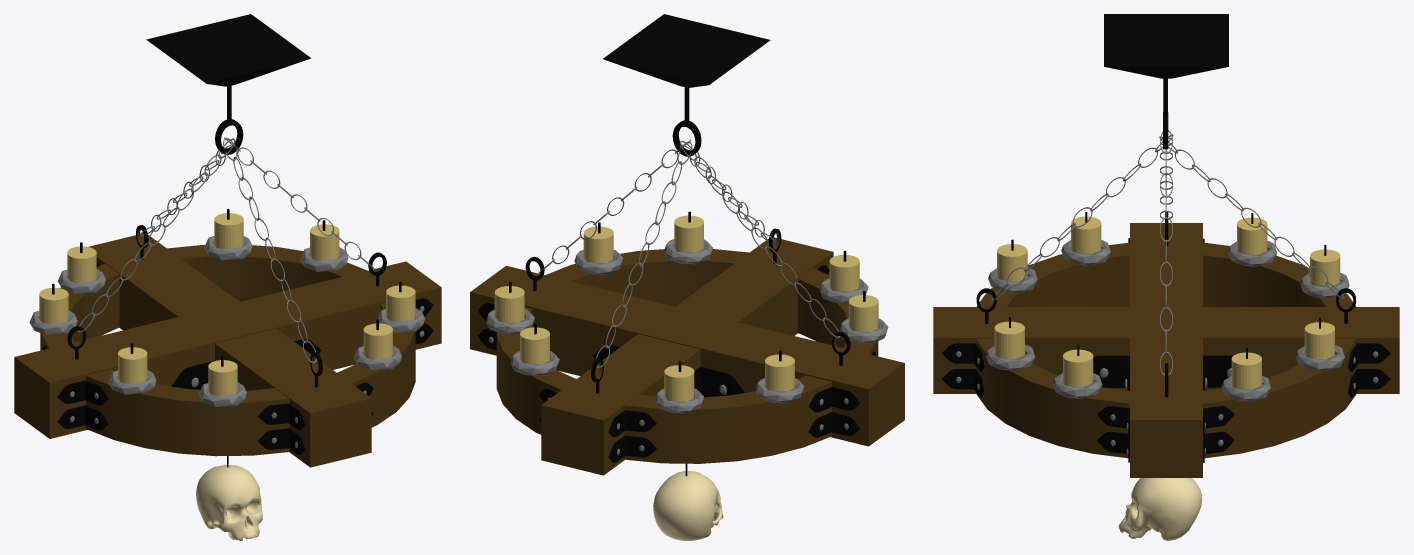
File: LampadarioconTeschio.fbx
3 views of the same model, side by side, from view 1: azimuth 30°, elevation 25°; view 2: azimuth 150°, elevation 25°; view 3: azimuth 270°, elevation 25° (orthographic). The views are drawn at different scales.
Visible parts, largest first — view 1: Circle.164, 3806lebka.001; view 2: Circle.164, 3806lebka.001; view 3: Circle.164, 3806lebka.001.
Part boxes in pixels (bbox=[...]): Circle.164: bbox=[14, 14, 441, 467]; 3806lebka.001: bbox=[196, 464, 262, 540]; Circle.164: bbox=[470, 14, 904, 476]; 3806lebka.001: bbox=[653, 470, 723, 540]; Circle.164: bbox=[933, 14, 1399, 477]; 3806lebka.001: bbox=[1118, 478, 1202, 540].
Size of the model in its own units: 80 by 93.26 by 80.
